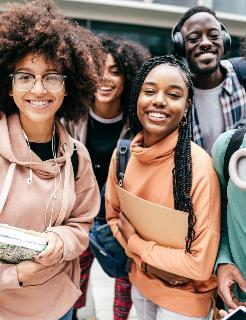person - v3 P: (0, 0, 104, 319), (106, 56, 220, 319), (65, 34, 150, 190), (173, 6, 245, 154), (212, 130, 245, 309)
